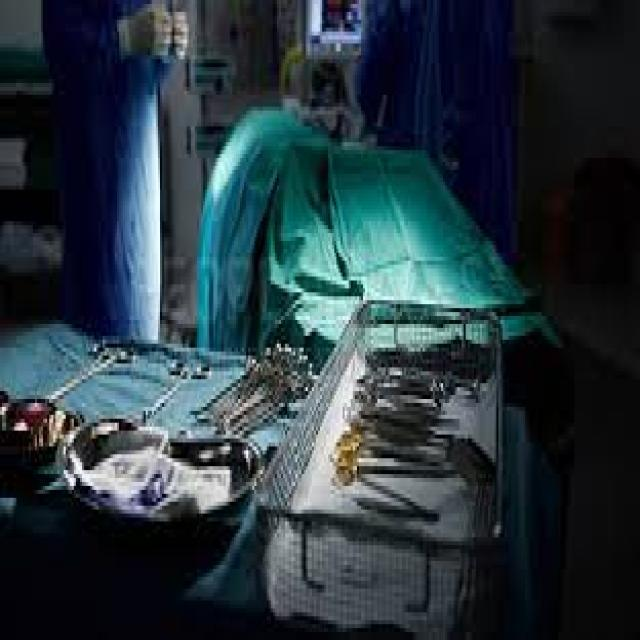bed: (248, 108, 542, 436)
tools_table: (0, 288, 533, 639)
